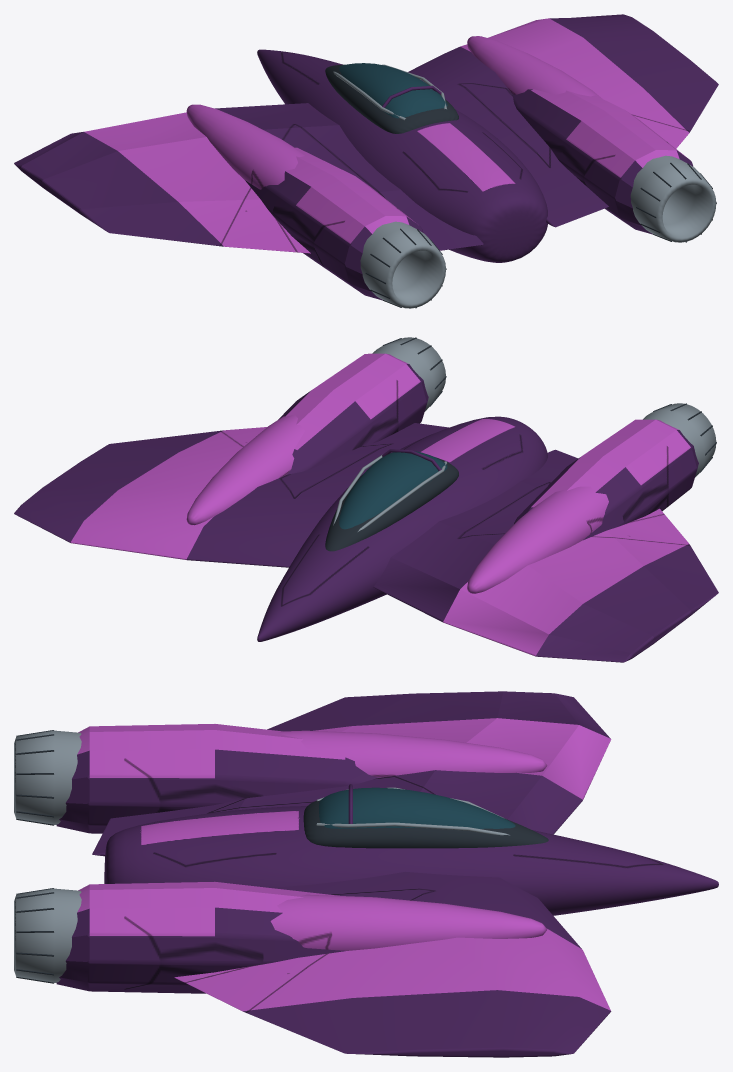
The model's file is runtime.glb.
3 renders of one model, top to bottom at view 1: azimuth 30°, elevation 25°; view 2: azimuth 150°, elevation 25°; view 3: azimuth 270°, elevation 25°, orthographic. The views are drawn at different scales.
Parts seen in each view (by area): view 1: VerdantFlowV2; view 2: VerdantFlowV2; view 3: VerdantFlowV2.
Part boxes in pixels (box(x1,y1,x2,y2)): VerdantFlowV2: box(14, 14, 718, 308); VerdantFlowV2: box(14, 337, 718, 662); VerdantFlowV2: box(14, 691, 718, 1057).
Bounding box in the file's own units: 3.58 × 0.6313 × 2.98.
Materials: 6 (2 with a texture image).
